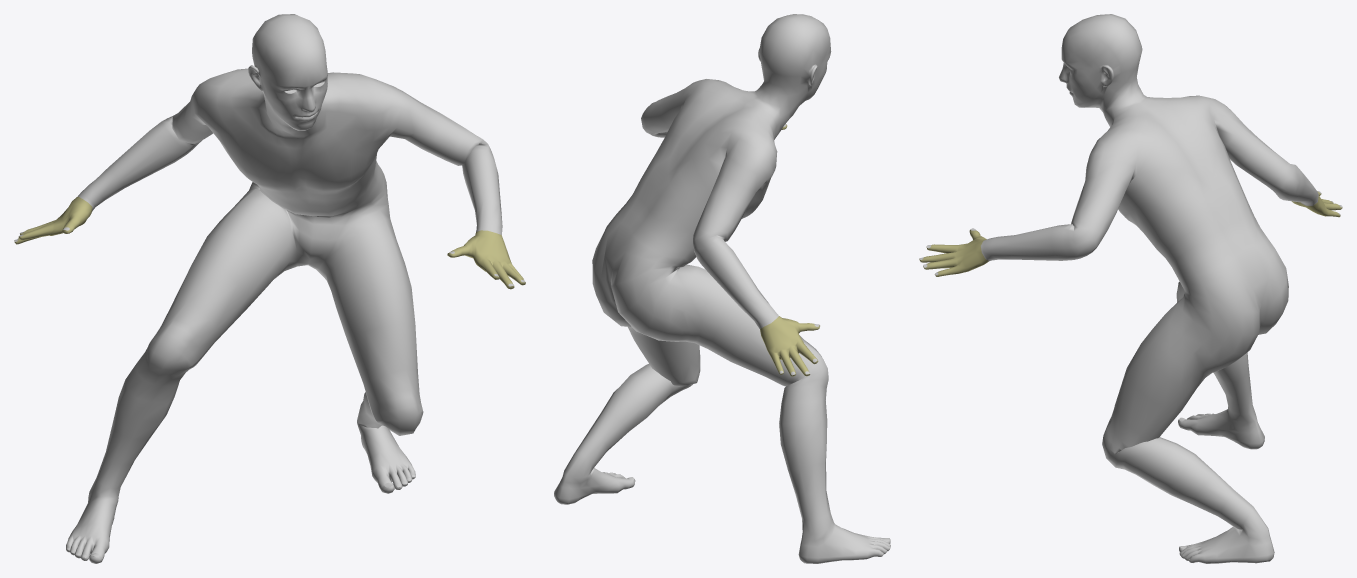
File: ref4.glb
3 views of the same model, side by side, from view 1: azimuth 30°, elevation 25°; view 2: azimuth 150°, elevation 25°; view 3: azimuth 270°, elevation 25° (orthographic). The views are drawn at different scales.
Parts seen in each view (by area): view 1: man001; view 2: man001; view 3: man001.
Part boxes in pixels (left/top/right/bottom): man001: left=14, top=14, right=525, bottom=563; man001: left=554, top=14, right=890, bottom=563; man001: left=919, top=14, right=1342, bottom=563.
Bounding box in the file's own units: 0.9122 × 1.36 × 1.09.
